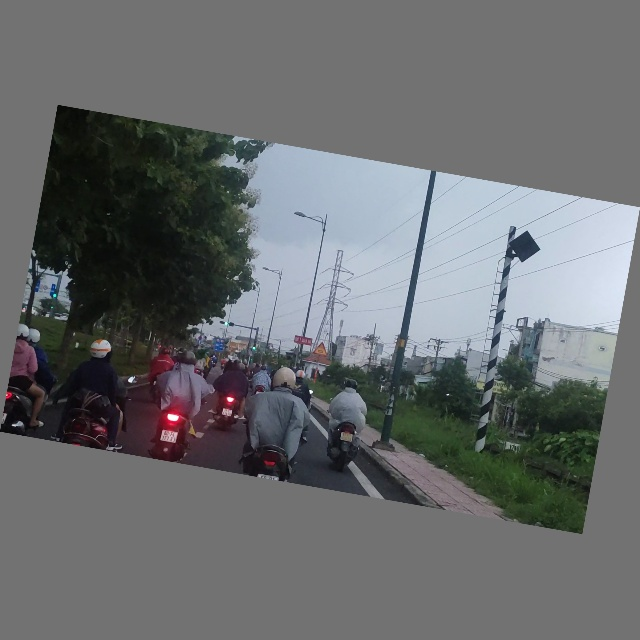W.210: (312, 341, 330, 358)
